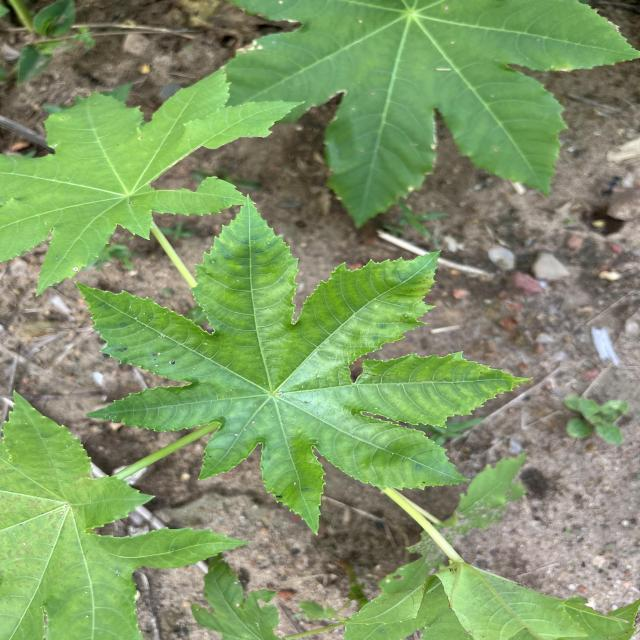Ricinus communis linn: (68, 185, 538, 540)
